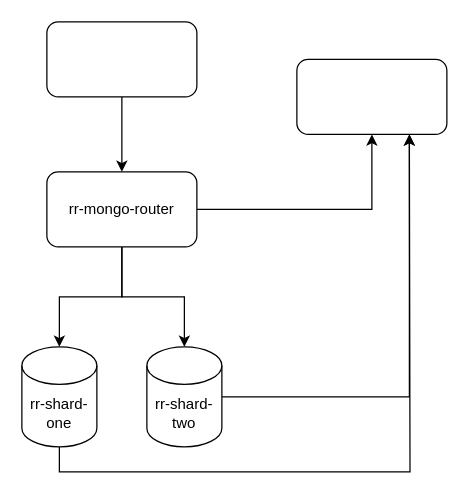
This 469x504 diagram has some shape labels left out. Each missing label, with the centre of its shape:
"rr-config-server" belongs at point 371,96.
"rr-pymongo-api" belongs at point 121,59.
